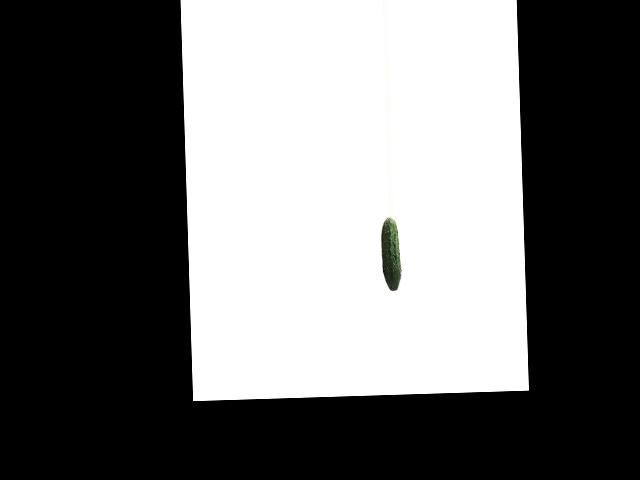cucumber: (380, 217, 401, 291)
